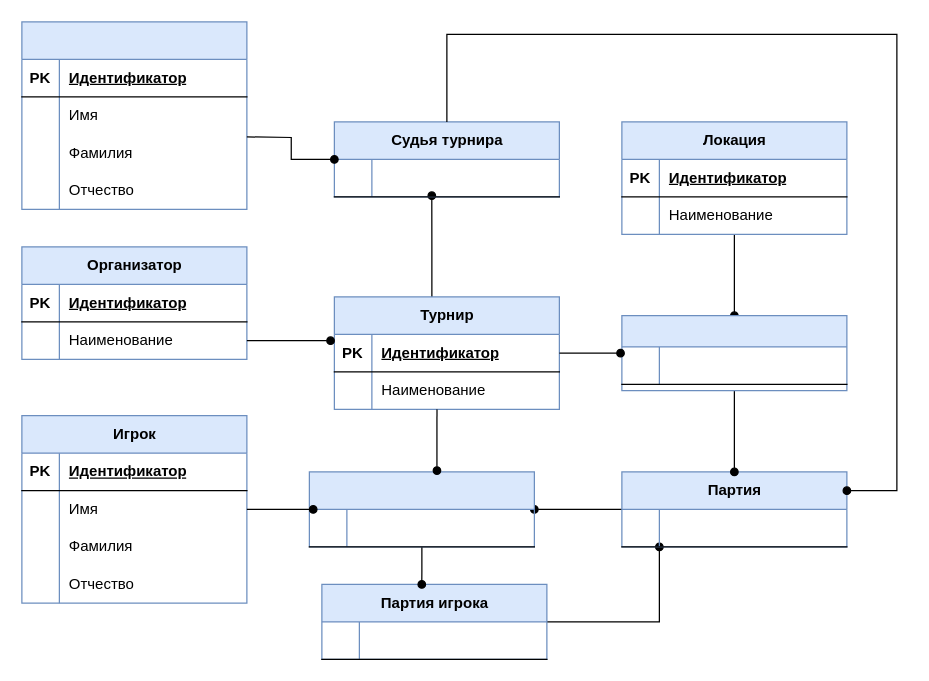
Image size: 929x681. Some labels were removed from this diagram. The box of each missing label's shape, as (x1, y1, x2, y2) in pixels:
Локация турнира: (621, 314, 847, 391)
Судья: (21, 21, 247, 209)
Участник турнира: (308, 471, 534, 547)
